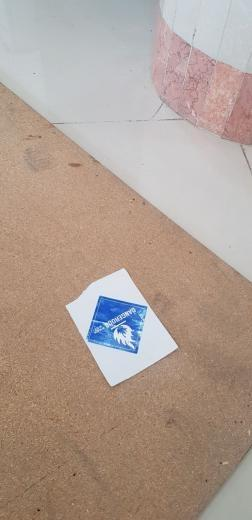dangerous-when-wet: (87, 295, 149, 355)
